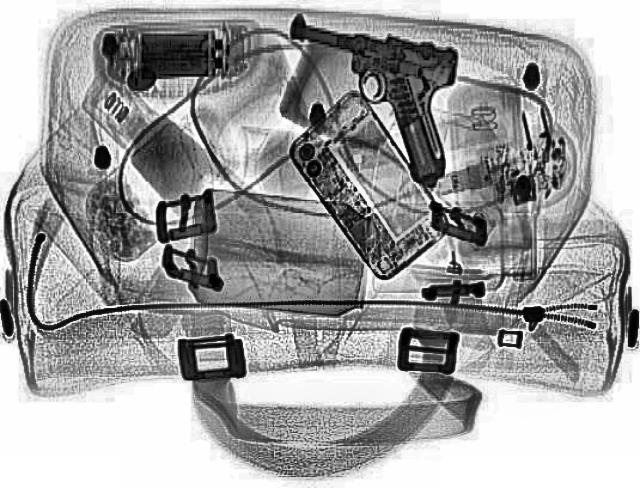Gun: (240, 19, 488, 185)
